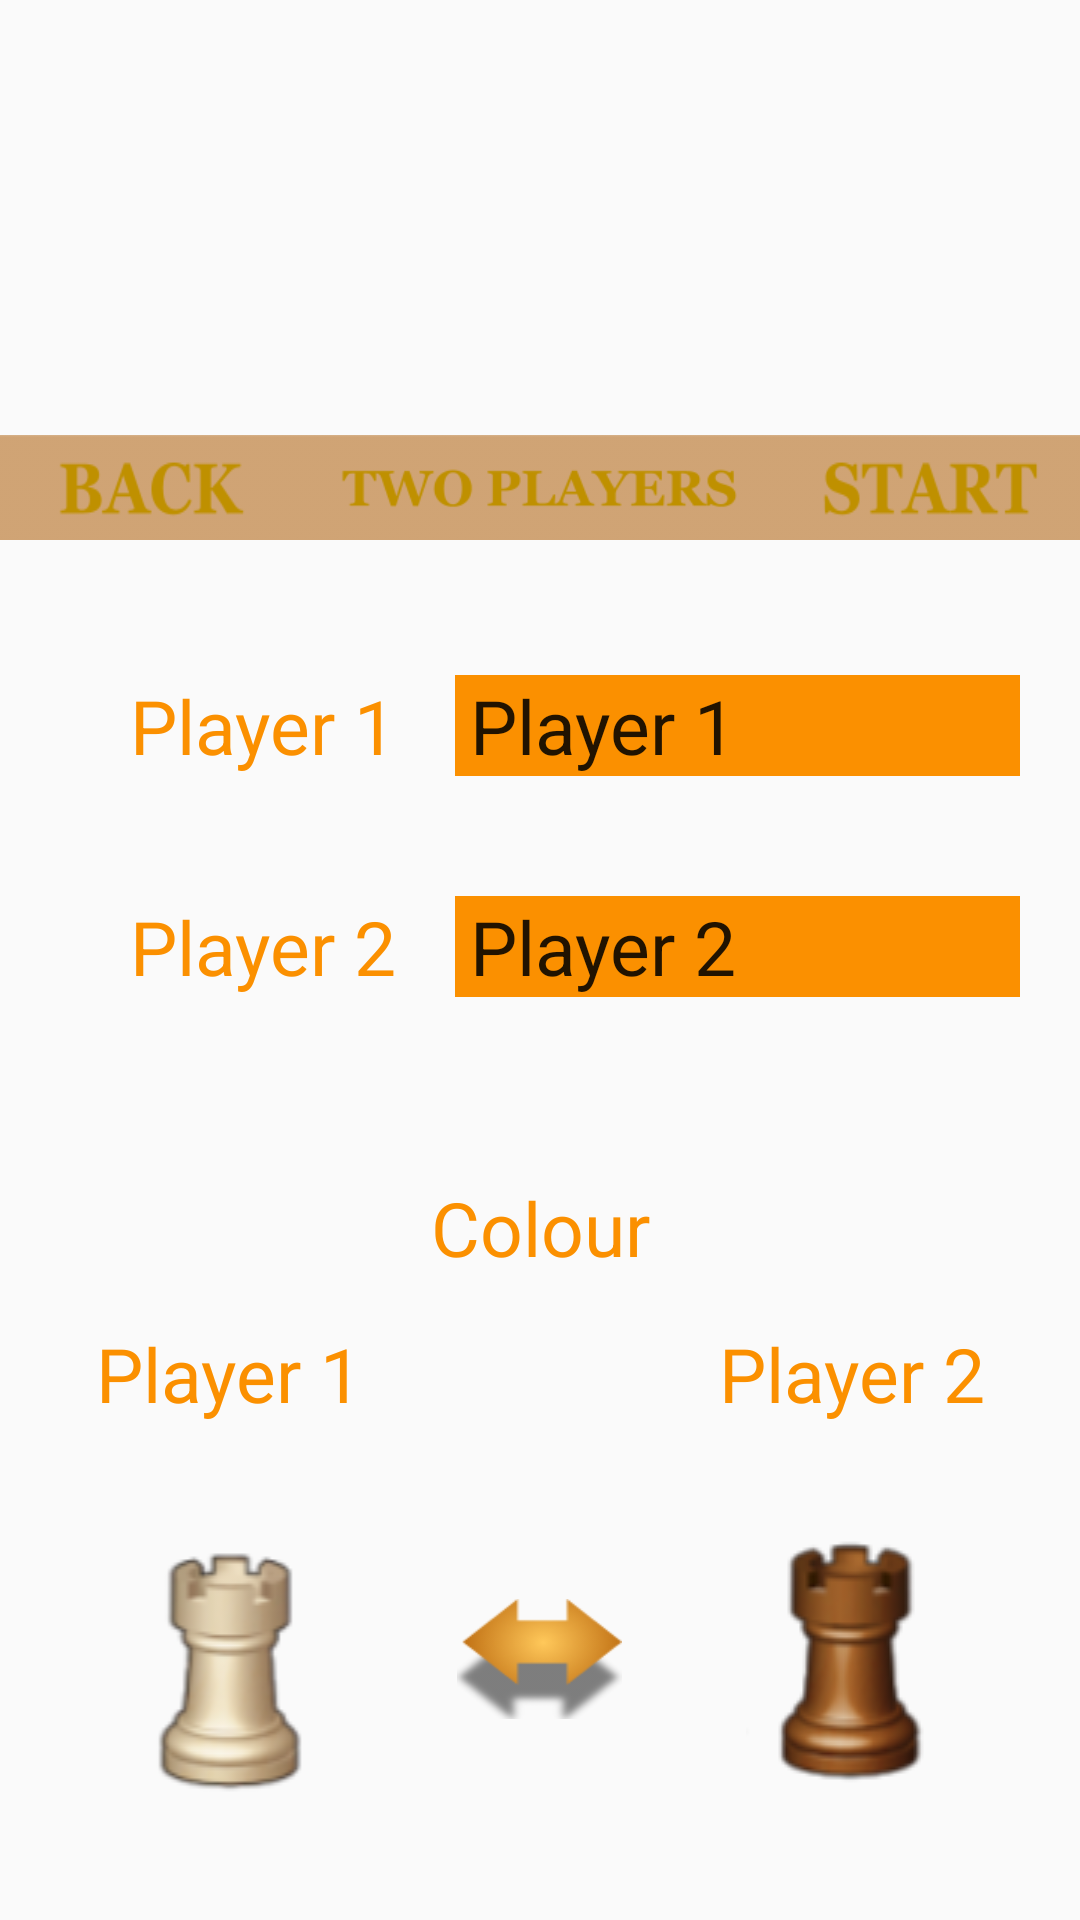

Where to tap for icons on this 1080*1920 app screen, as (x=x, y=y):
arrows: (x=540, y=1659)
rook: (x=850, y=1661), (x=230, y=1671)
